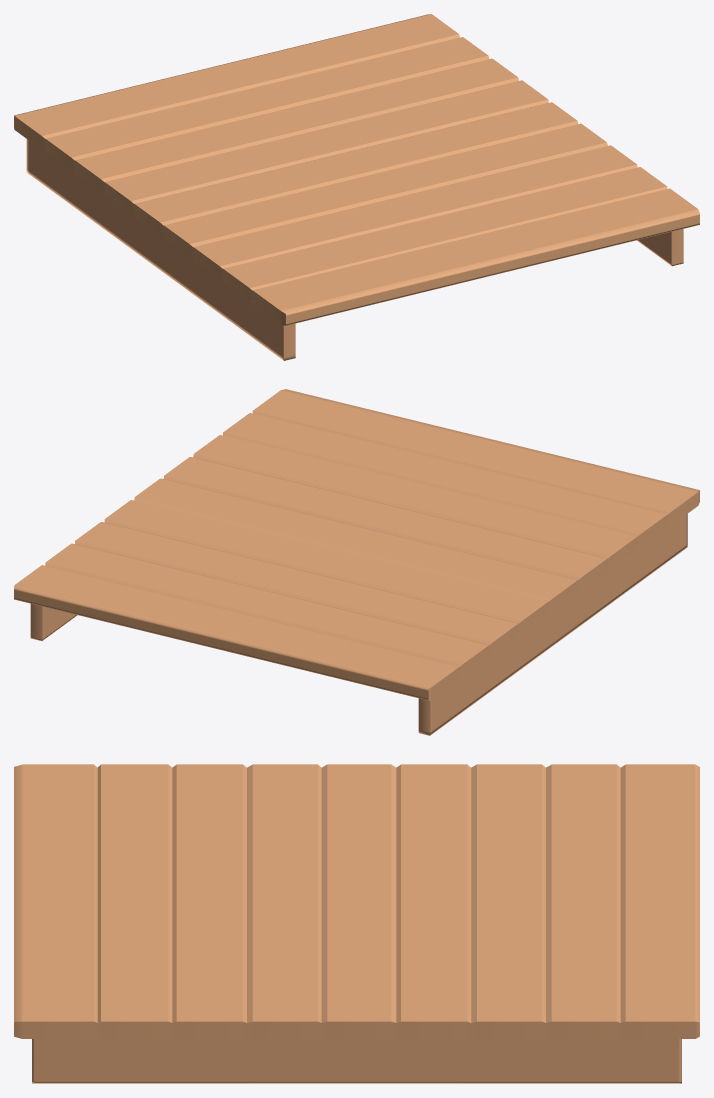
Rendered from MSH_EstanciaRoof_MesaCafe.fbx.
The picture shows the model from 3 angles, top to bottom: view 1: azimuth 30°, elevation 25°; view 2: azimuth 150°, elevation 25°; view 3: azimuth 270°, elevation 25°; orthographic projection. The views are drawn at different scales.
Visible parts, largest first — view 1: MSH_EstanciaRoof_MesaCafe; view 2: MSH_EstanciaRoof_MesaCafe; view 3: MSH_EstanciaRoof_MesaCafe.
Part boxes in pixels (x1,y1,x2,y2): MSH_EstanciaRoof_MesaCafe: [14, 14, 699, 360]; MSH_EstanciaRoof_MesaCafe: [14, 389, 699, 735]; MSH_EstanciaRoof_MesaCafe: [14, 764, 699, 1083].
Size of the model in its own units: 131 by 16.31 by 148.
